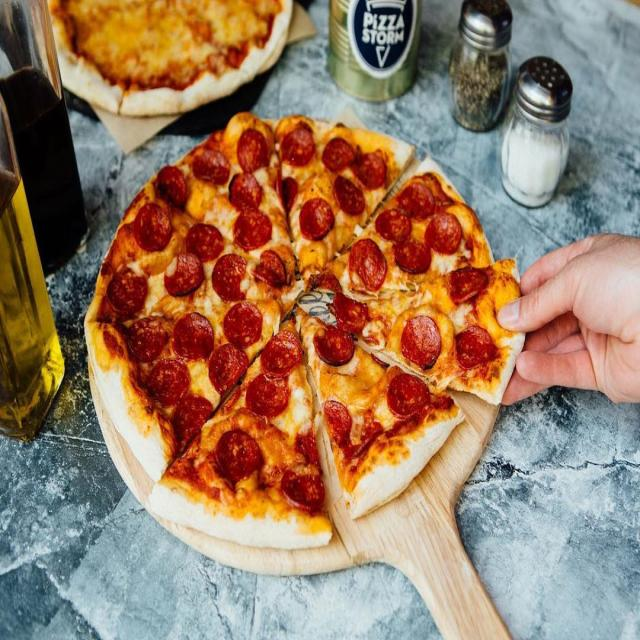pepperoni: (243, 322, 302, 416), (213, 297, 265, 395), (121, 316, 218, 364), (447, 265, 504, 342), (244, 336, 295, 419), (385, 372, 455, 426), (211, 428, 267, 492), (323, 142, 395, 190), (178, 134, 235, 193), (206, 334, 254, 404), (386, 372, 453, 422), (388, 175, 454, 221), (345, 237, 393, 298), (233, 190, 275, 253), (400, 314, 444, 372), (409, 214, 466, 257), (135, 196, 176, 254), (109, 264, 152, 317), (454, 326, 502, 372), (145, 358, 185, 412), (211, 253, 250, 305), (313, 326, 358, 370), (174, 316, 217, 362), (298, 198, 340, 244), (322, 396, 354, 454), (184, 224, 226, 267), (238, 128, 272, 181), (322, 136, 367, 175), (164, 256, 203, 299), (370, 208, 416, 244), (279, 123, 315, 168), (334, 172, 369, 218), (228, 172, 264, 214), (394, 242, 433, 277), (396, 241, 432, 276), (278, 173, 300, 219)
pizza: (86, 117, 520, 553)
